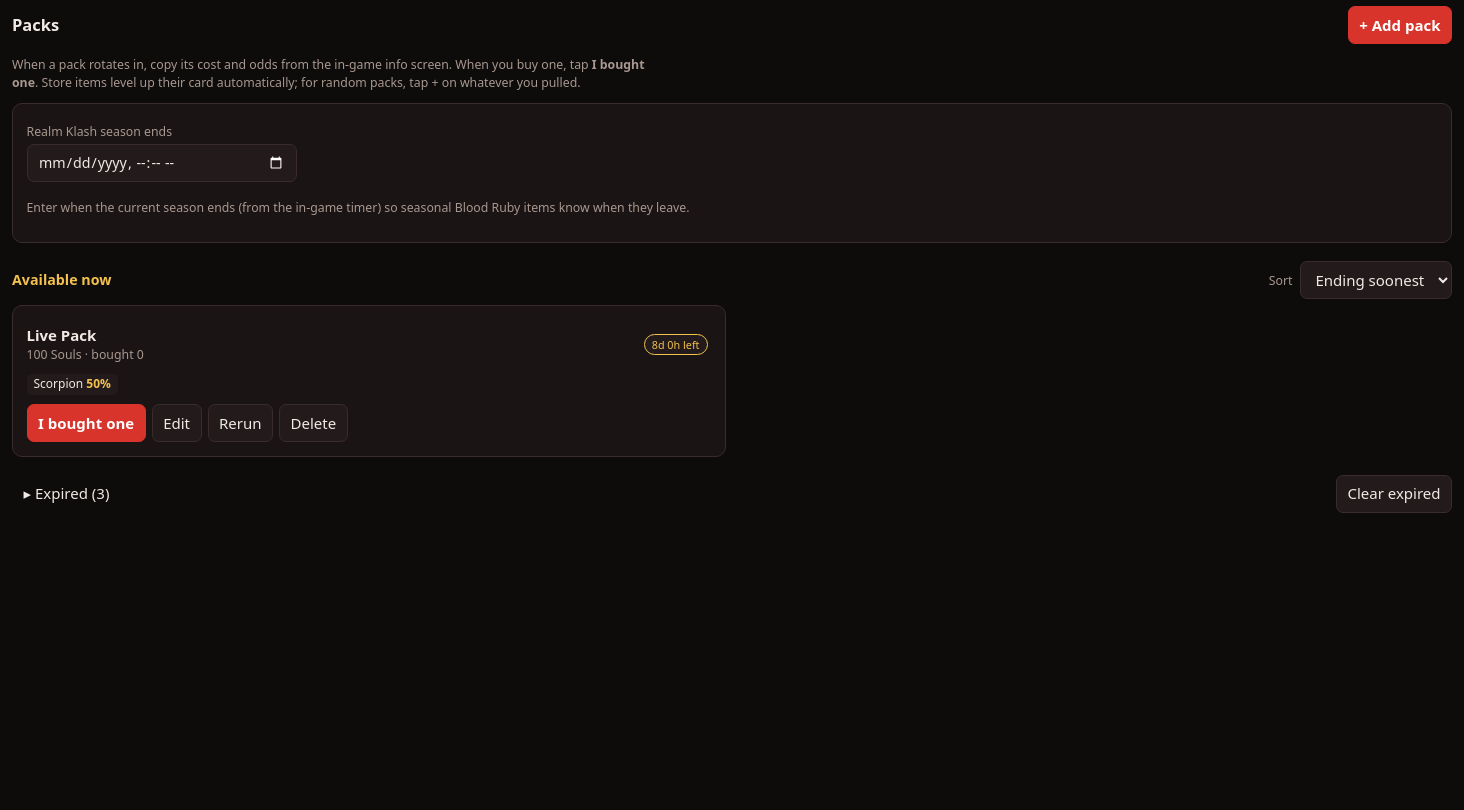
Test case: Packs: logging a purchase › opens "What did you pull?" after logging a random pack, and closes it when the purchase is taken back
Expected: the text "What did you pull?" is not shown
Click the button "I bought one". click: point(86, 423)
box: [26, 404, 146, 442]
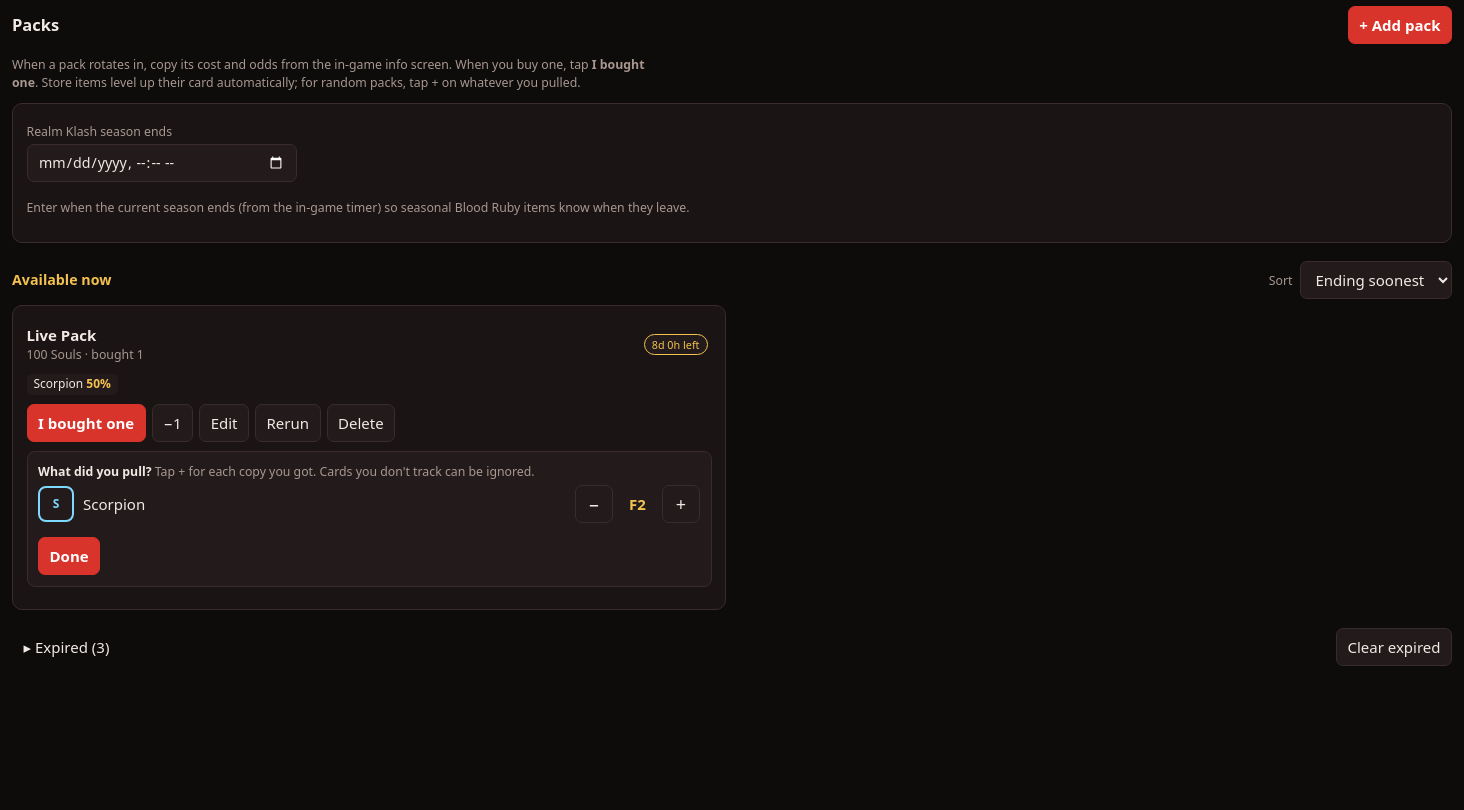
Expected: the text "What did you pull?" is shown, [38, 463, 152, 480]
Click the button named "Remove one purchase". click: point(172, 423)
box: [152, 404, 193, 442]
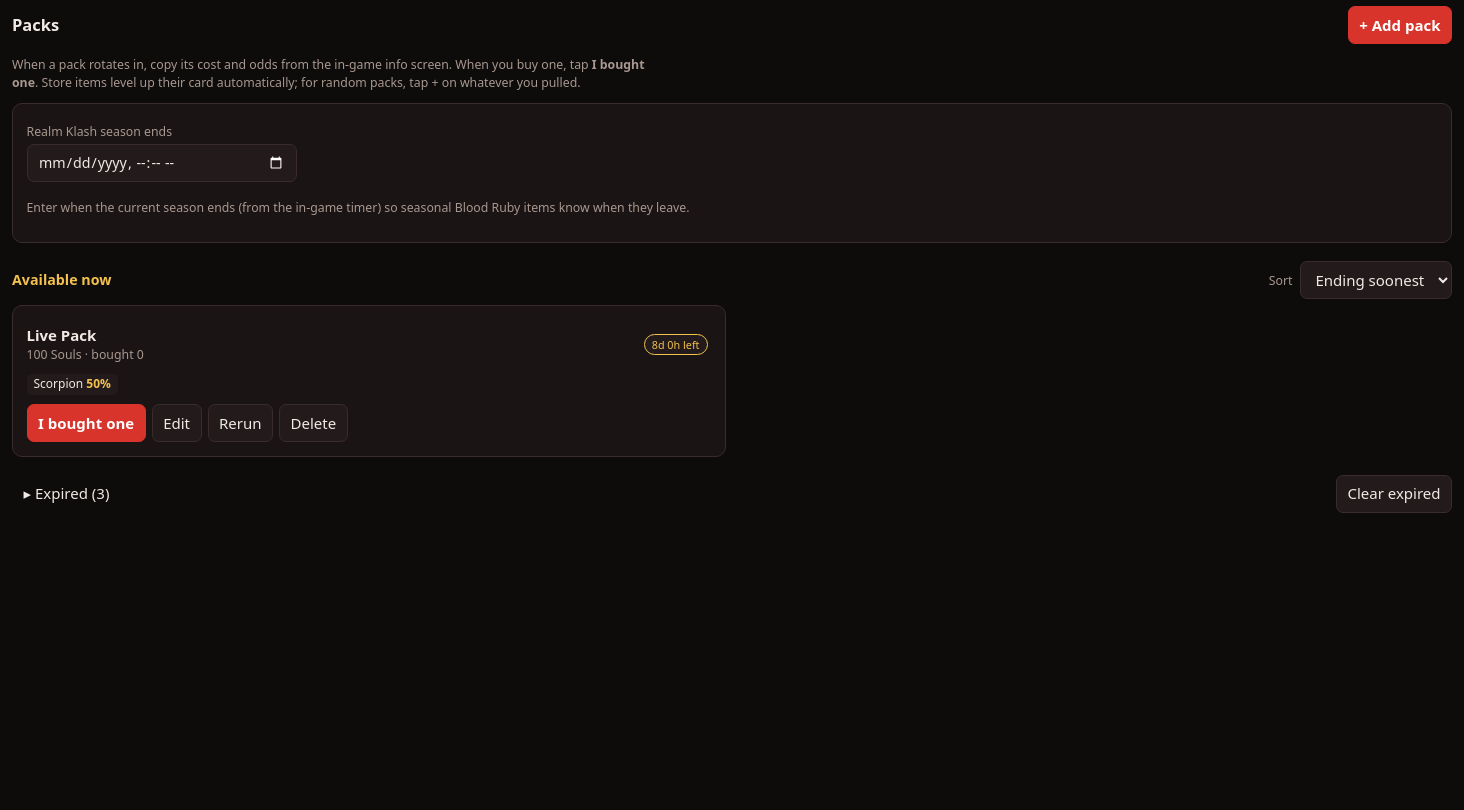
Expected: the text "What did you pull?" is gone
